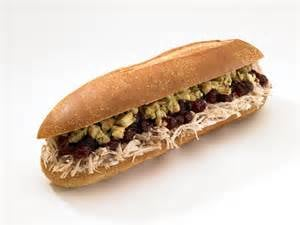soup: (35, 37, 270, 188)
